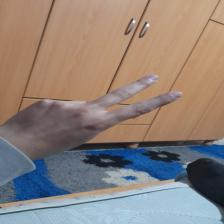two: (13, 72, 188, 152)
